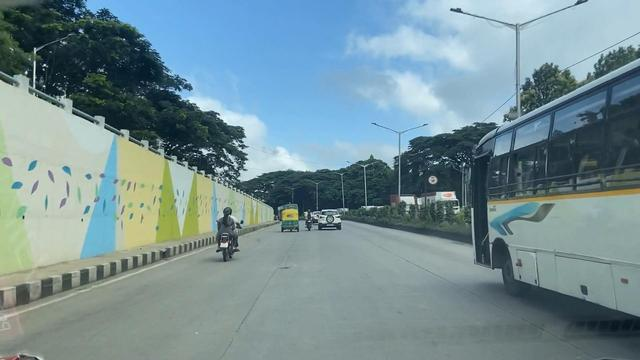HMV: (470, 89, 640, 312)
LMV: (217, 209, 236, 258)
